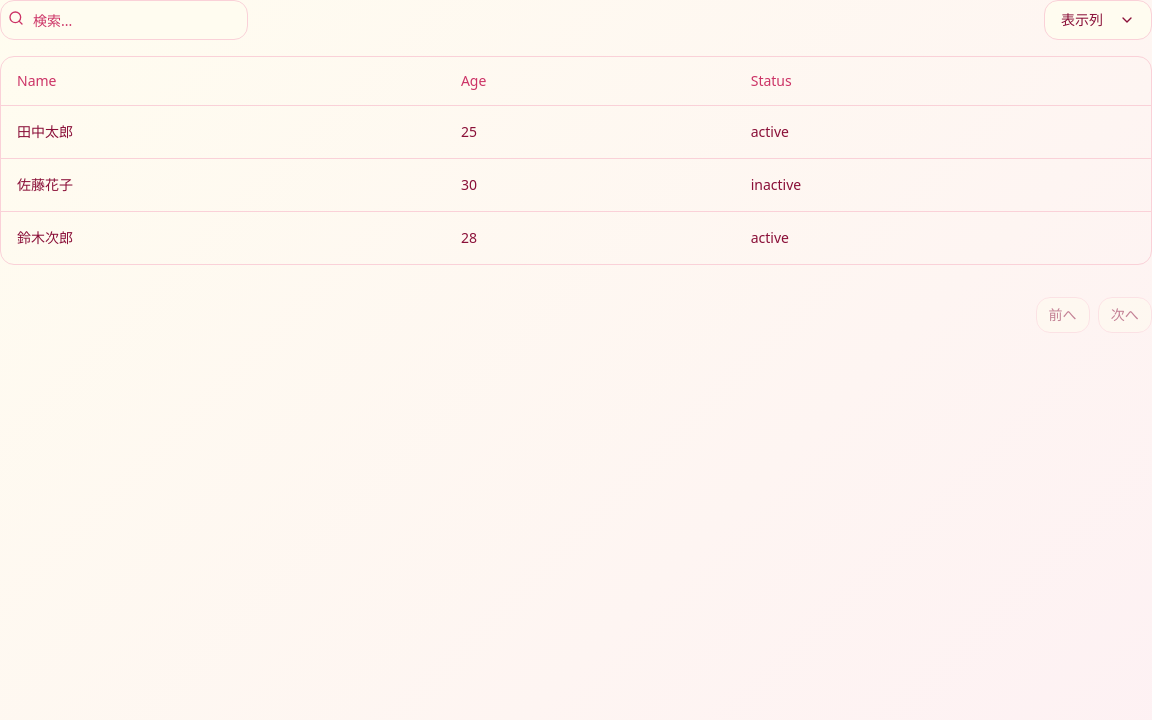
Test: DataTable › filters data when searching
This screenshot has width=1152, height=720.
Type "田中" into the field with placeholder "検索..." at (124, 20), box [0,0,248,40]
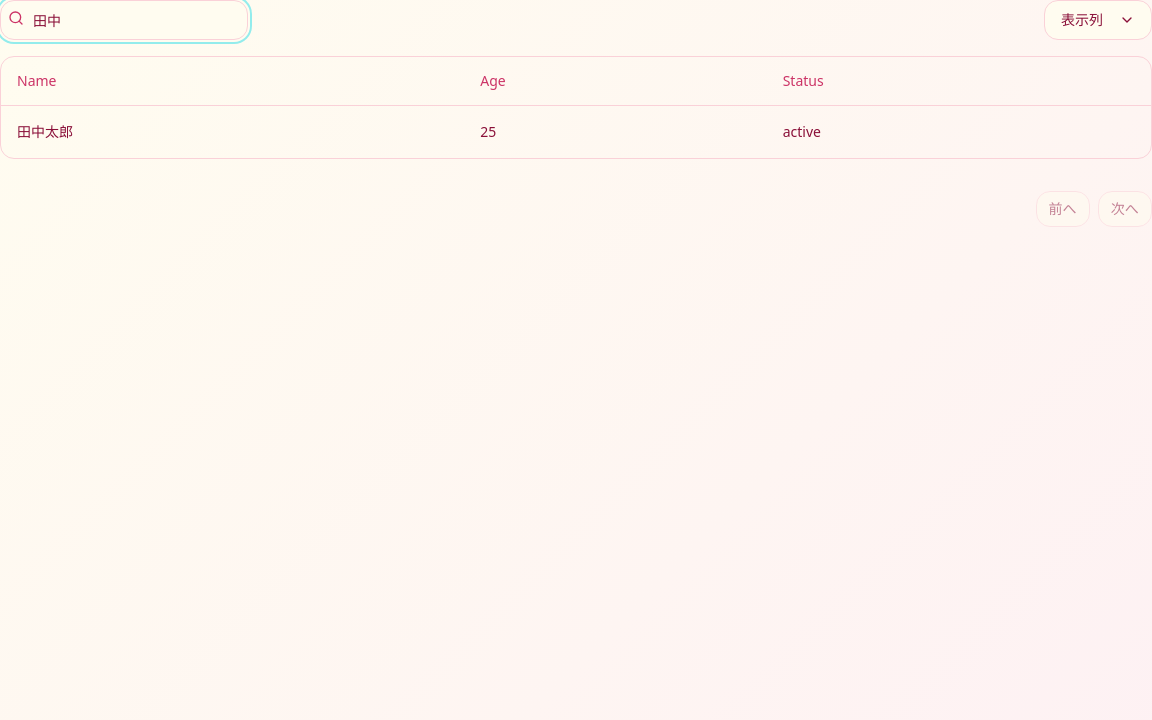
Check: the text "田中太郎" is shown, box [1,105,464,158]
Check: the text "佐藤花子" is gone
